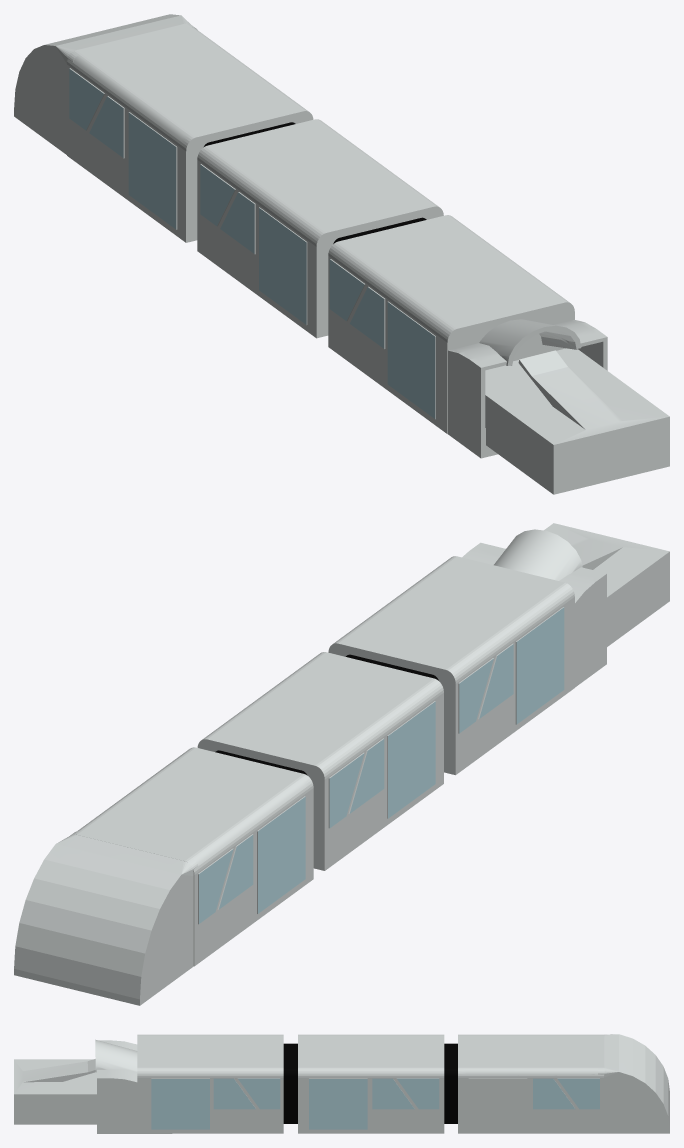
File: Train_Coloured_Export.fbx
3 renders of one model, top to bottom at view 1: azimuth 30°, elevation 25°; view 2: azimuth 150°, elevation 25°; view 3: azimuth 270°, elevation 25°, orthographic. The views are drawn at different scales.
Visible parts, largest first — view 1: polySurface13; view 2: polySurface13; view 3: polySurface13.
Part boxes in pixels (left/top/right/bottom): polySurface13: left=14, top=14, right=669, bottom=494; polySurface13: left=14, top=523, right=669, bottom=1005; polySurface13: left=14, top=1034, right=669, bottom=1133.
Size of the model in its own units: 447 by 389 by 3212.
